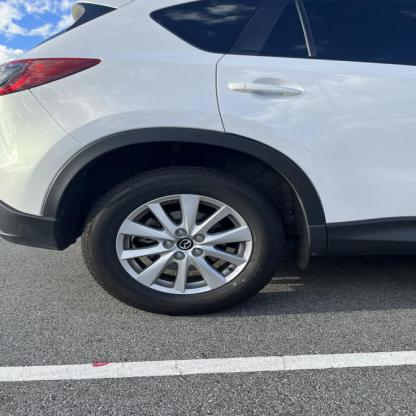Tire: (81, 167, 286, 317)
